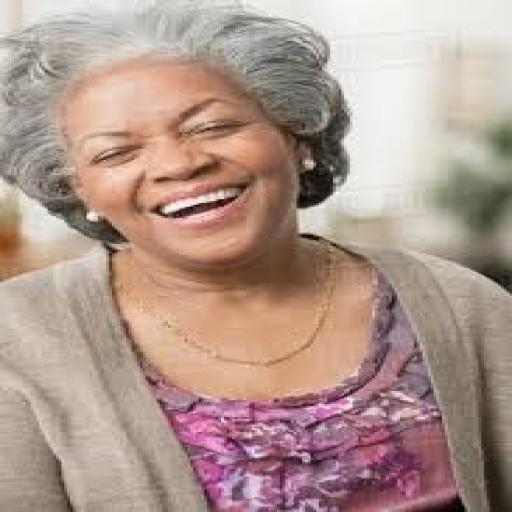laughing: (3, 2, 506, 508)
